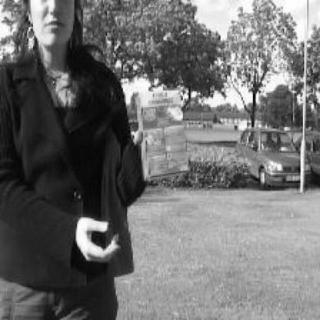other: (132, 87, 198, 174)
